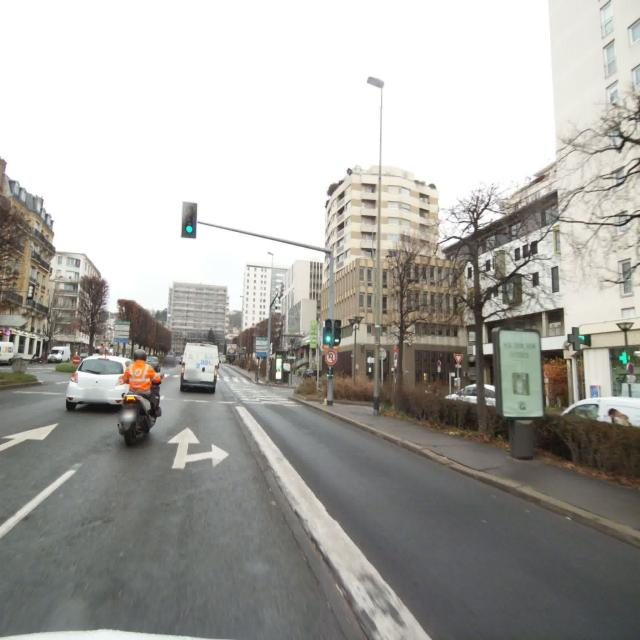forb_stopping: (628, 363, 634, 375)
